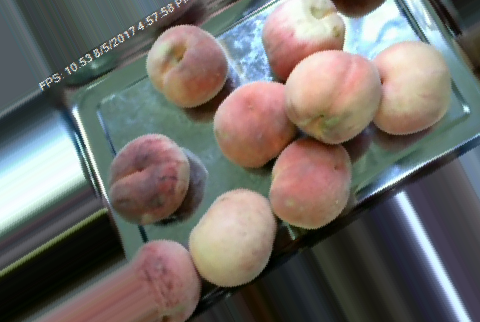Peach: (285, 49, 382, 144), (189, 186, 279, 288), (368, 40, 452, 135), (270, 137, 354, 229), (214, 79, 298, 170), (109, 133, 191, 224), (144, 25, 228, 107)
